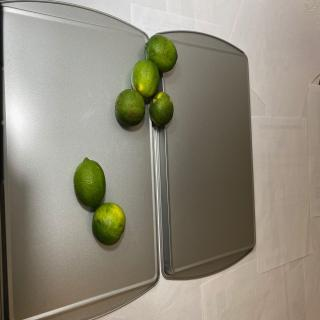Lemon: (73, 157, 106, 208), (92, 202, 125, 246), (144, 33, 178, 73), (130, 59, 160, 99), (115, 88, 145, 126), (149, 92, 174, 126)
